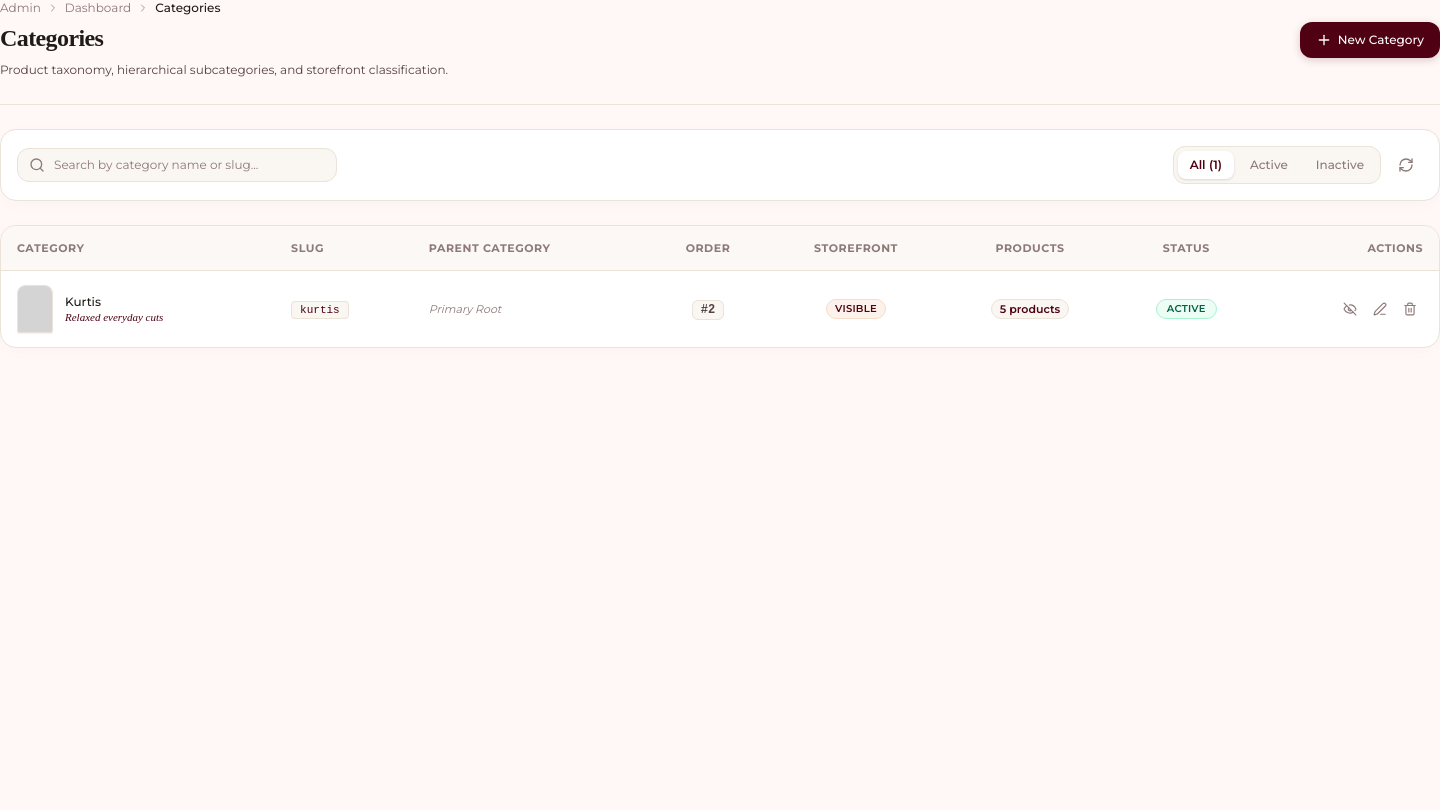
Admin Category Media & Storefront Configuration › opens edit modal with existing image, alt text, and storefront configuration
This screenshot has width=1440, height=810.
Expected: the text "Kurtis" is shown, [65,294,101,310]
Click the button named "edit category kurtis": (1380, 309) [1367,296,1393,322]
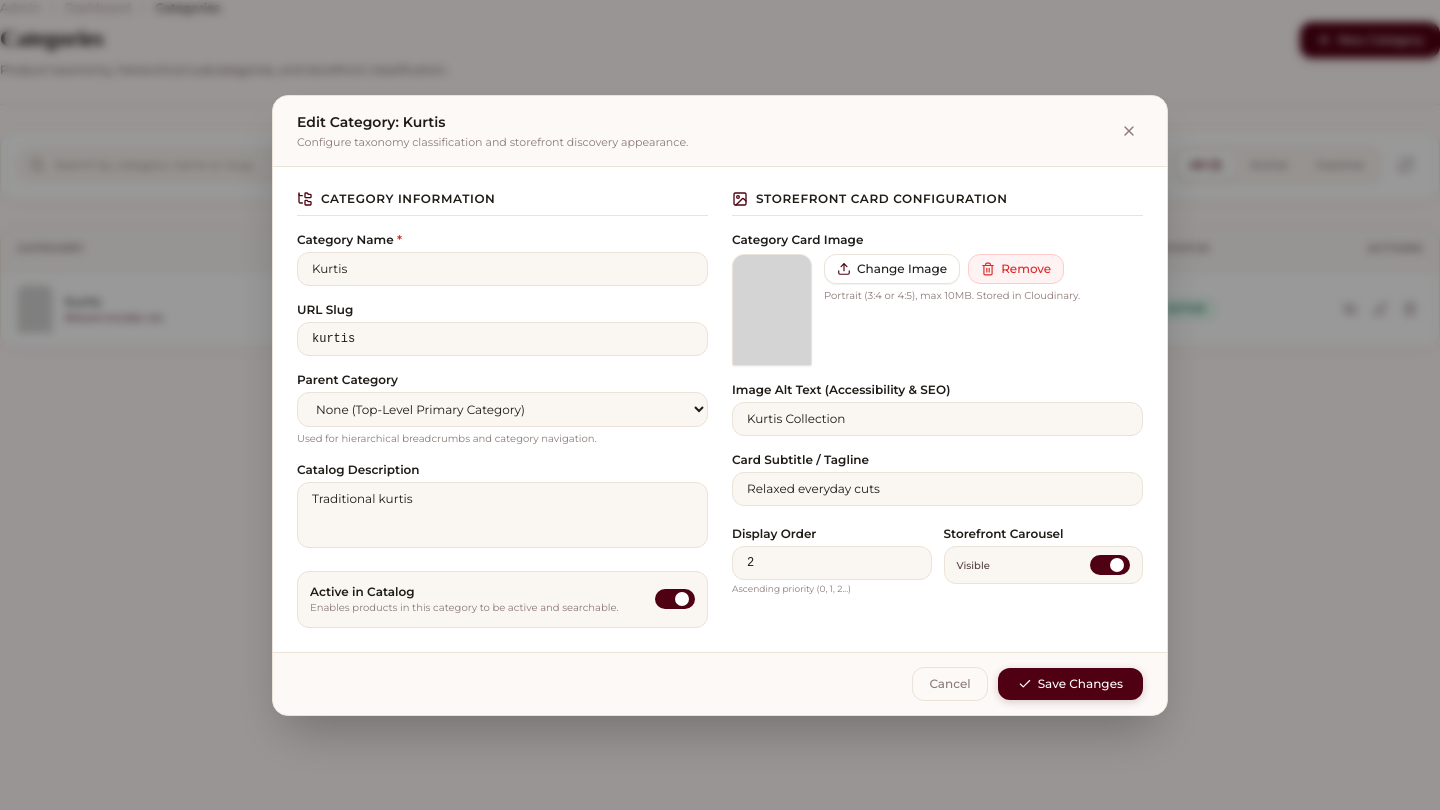
Expected: the heading "Edit Category: Kurtis" is shown, [297,112,446,130]
Expected: the field showing "Relaxed everyday cuts" is shown, [732,472,1143,506]
Expected: the field showing "Kurtis Collection" is shown, [732,402,1143,436]
